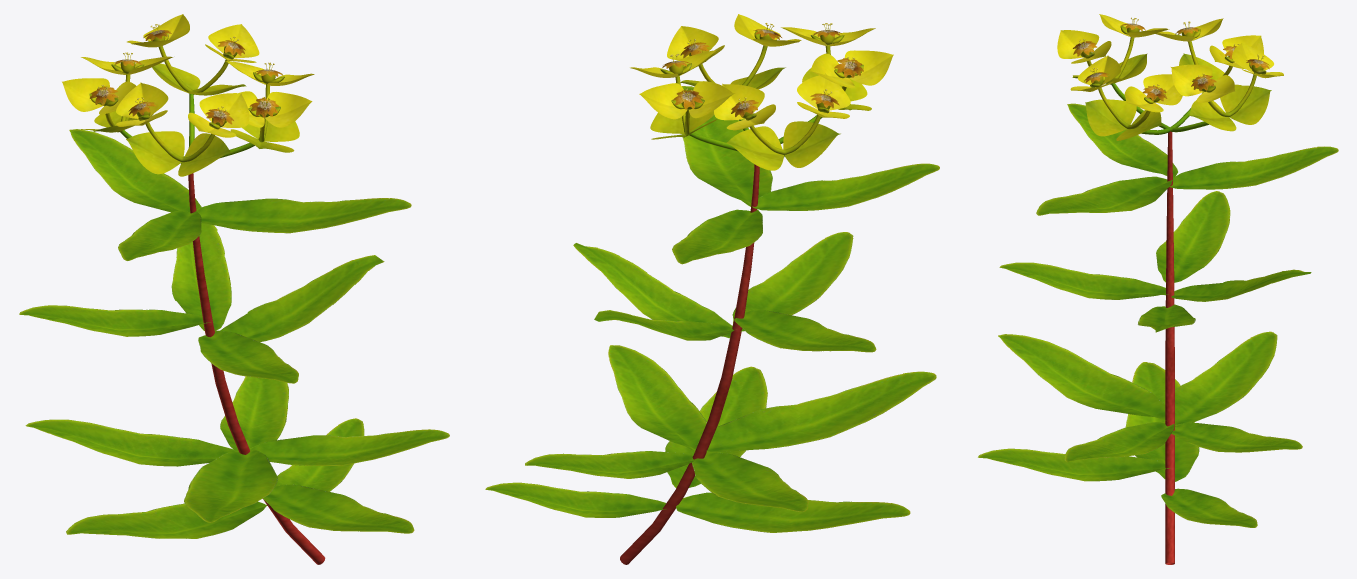
The model's file is EuforbiaPianta.glb.
3 renders of one model, left to right at view 1: azimuth 30°, elevation 25°; view 2: azimuth 150°, elevation 25°; view 3: azimuth 270°, elevation 25°, orthographic. The views are drawn at different scales.
Visible parts, largest first — view 1: FogliaEuforbia, FogliaEuforbia.009, FogliaEuforbia.001, FogliaEuforbia.012, FogliaEuforbia.004, FogliaEuforbia.002, FogliaEuforbia.010, FogliaEuforbia.011, FogliaEuforbia.005, FogliaEuforbia.006, FogliaEuforbia.008, FogliaEuforbia.007 (+13 smaller); view 2: FogliaEuforbia.012, FogliaEuforbia.002, FogliaEuforbia.011, FogliaEuforbia.007, FogliaEuforbia.003, FogliaEuforbia.001, FogliaEuforbia.009, FogliaEuforbia, EuphorbiaOrigin, FogliaEuforbia.006, FogliaEuforbia.013, FogliaEuforbia.008 (+13 smaller); view 3: FogliaEuforbia.012, FogliaEuforbia.009, FogliaEuforbia.006, FogliaEuforbia.004, FogliaEuforbia.010, EuphorbiaOrigin, FogliaEuforbia.007, FogliaEuforbia, FogliaEuforbia.002, FogliaEuforbia.008, FogliaEuforbia.003, FogliaEuforbia.011 (+16 smaller).
Boxes of the visible parts, bbox=[...] form: FogliaEuforbia: bbox=[196, 198, 411, 233]; FogliaEuforbia.009: bbox=[25, 419, 238, 466]; FogliaEuforbia.001: bbox=[220, 255, 384, 341]; FogliaEuforbia.012: bbox=[184, 449, 277, 522]; FogliaEuforbia.004: bbox=[69, 129, 201, 212]; FogliaEuforbia.002: bbox=[249, 429, 449, 465]; FogliaEuforbia.010: bbox=[263, 484, 414, 533]; FogliaEuforbia.011: bbox=[66, 501, 268, 538]; FogliaEuforbia.005: bbox=[171, 223, 231, 330]; FogliaEuforbia.006: bbox=[19, 305, 210, 336]; FogliaEuforbia.008: bbox=[220, 376, 288, 451]; FogliaEuforbia.007: bbox=[198, 330, 298, 383]; FogliaEuforbia.012: bbox=[698, 371, 936, 452]; FogliaEuforbia.002: bbox=[608, 345, 706, 451]; FogliaEuforbia.011: bbox=[676, 492, 910, 532]; FogliaEuforbia.007: bbox=[732, 232, 853, 331]; FogliaEuforbia.003: bbox=[752, 163, 939, 210]; FogliaEuforbia.001: bbox=[573, 243, 732, 338]; FogliaEuforbia.009: bbox=[692, 452, 808, 511]; FogliaEuforbia: bbox=[681, 86, 772, 206]; EuphorbiaOrigin: bbox=[620, 164, 759, 564]; FogliaEuforbia.006: bbox=[734, 310, 876, 352]; FogliaEuforbia.013: bbox=[485, 482, 666, 517]; FogliaEuforbia.008: bbox=[525, 451, 698, 478]; FogliaEuforbia.012: bbox=[998, 334, 1165, 420]; FogliaEuforbia.009: bbox=[1164, 331, 1277, 426]; FogliaEuforbia.006: bbox=[1156, 191, 1230, 282]; FogliaEuforbia.004: bbox=[1169, 146, 1338, 189]; FogliaEuforbia.010: bbox=[978, 448, 1170, 481]; EuphorbiaOrigin: bbox=[1165, 131, 1174, 564]; FogliaEuforbia.007: bbox=[999, 262, 1168, 299]; FogliaEuforbia: bbox=[1036, 176, 1173, 215]; FogliaEuforbia.002: bbox=[1064, 422, 1174, 462]; FogliaEuforbia.008: bbox=[1171, 422, 1302, 452]; FogliaEuforbia.003: bbox=[1067, 103, 1177, 178]; FogliaEuforbia.011: bbox=[1125, 362, 1199, 481].
Bounding box in the file's own units: 0.3356 × 0.4619 × 0.3344.
Materials: 4 (4 with a texture image).
